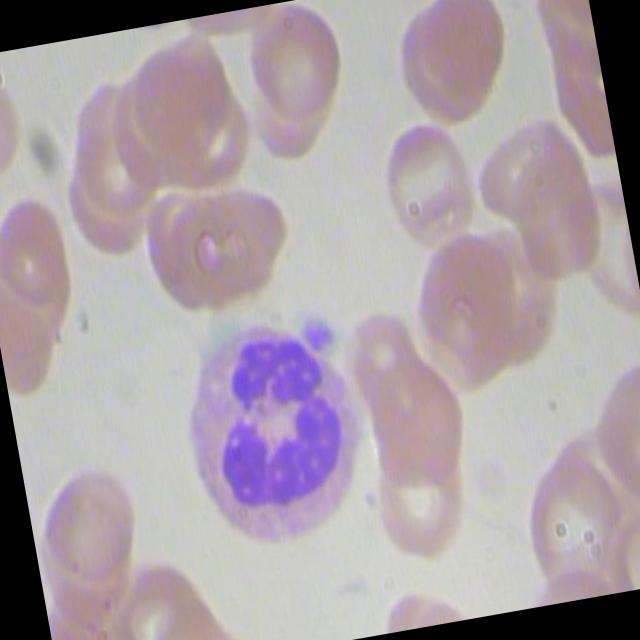RBC: (388, 221, 536, 410), (162, 173, 308, 322), (371, 102, 488, 255), (29, 451, 154, 594), (354, 350, 479, 493), (509, 446, 634, 589), (123, 28, 237, 166), (366, 438, 484, 568), (241, 0, 355, 130), (403, 0, 521, 111), (0, 188, 82, 313)
WBC: (166, 292, 394, 564)
